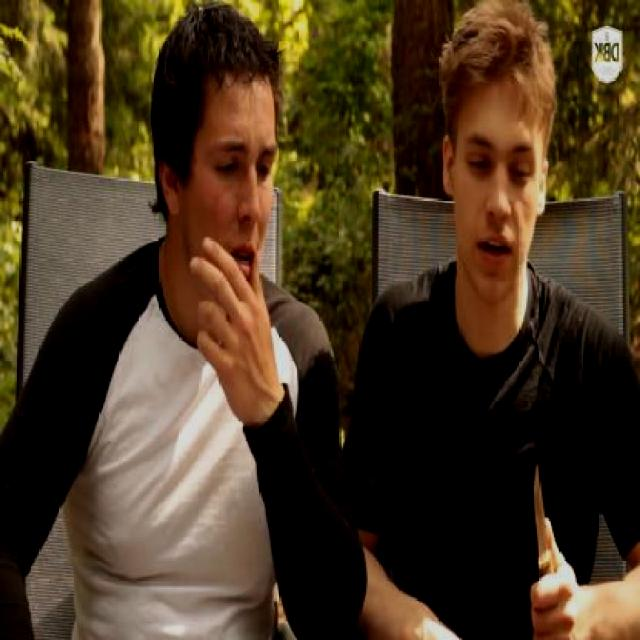knife: (515, 446, 580, 640)
